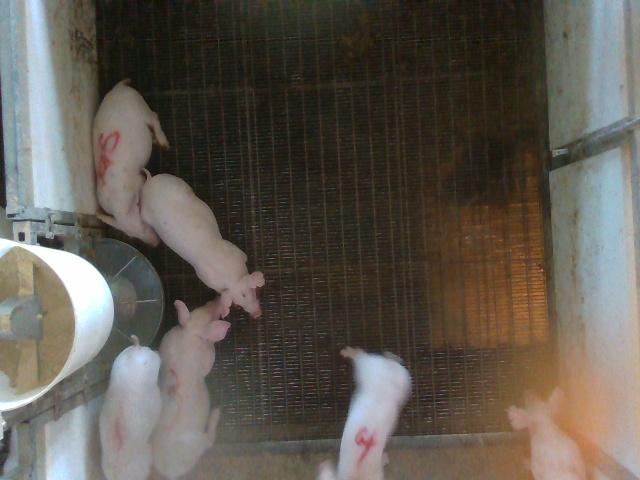pig-1: (100, 338, 161, 479)
pig-3: (151, 292, 231, 479)
pig-4: (338, 346, 411, 478)
pig-5: (94, 80, 169, 246)
